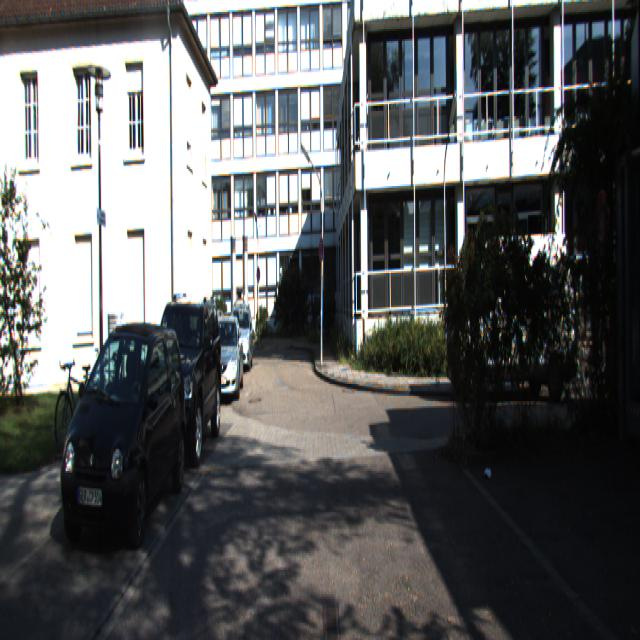Car: (53, 318, 188, 554), (138, 288, 224, 477), (206, 315, 246, 404), (227, 302, 255, 372)
